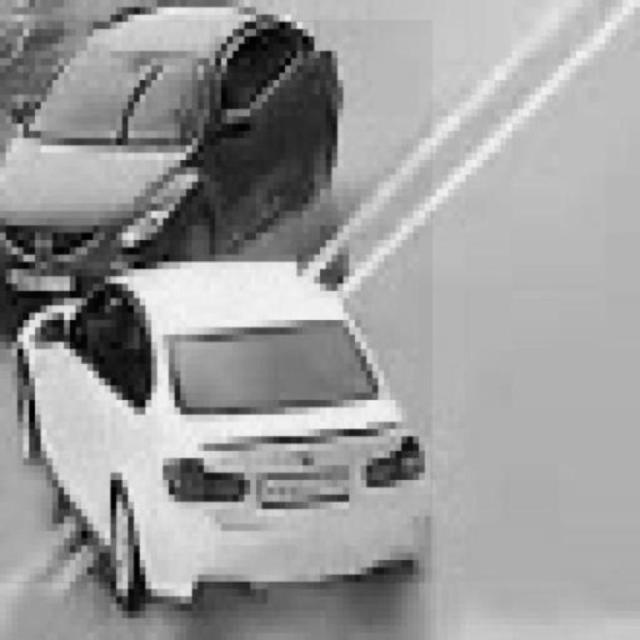accident: (0, 20, 432, 583)
